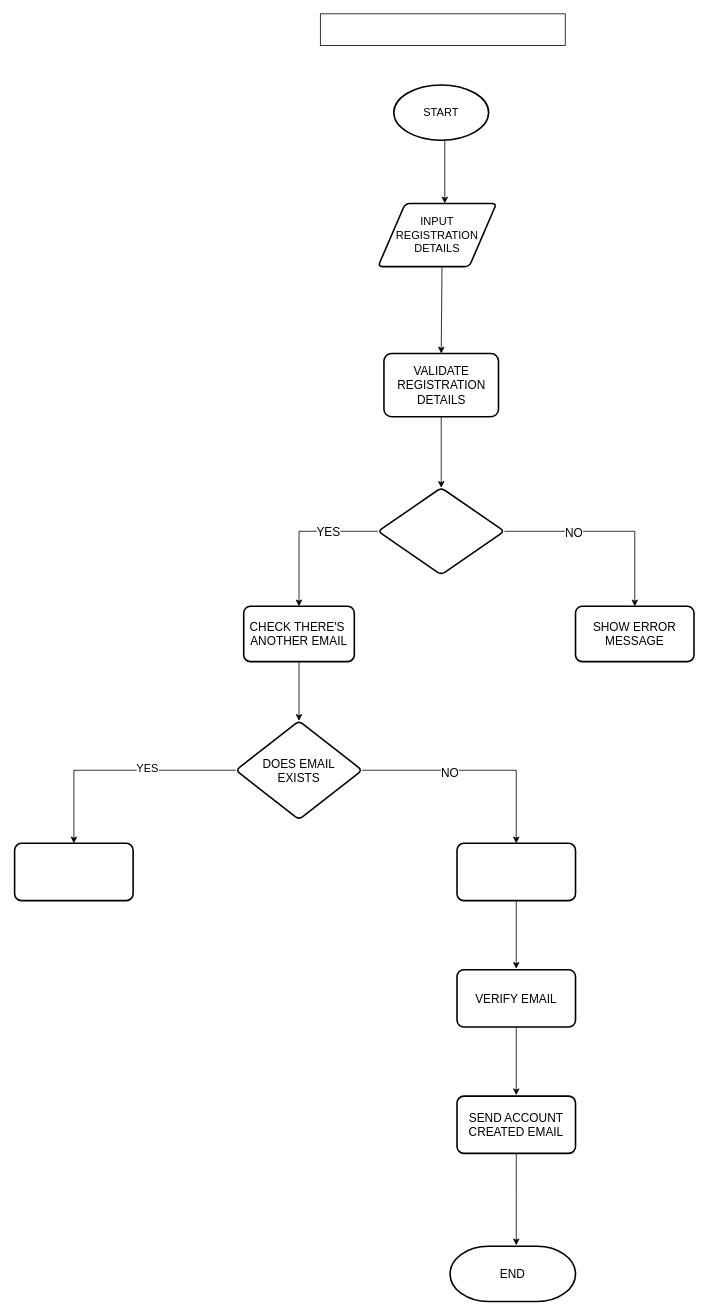
This 708x1316 diagram has some shape labels left out. The centre of each missing label's shape, as x and y in pixels:
"CREATE NEW ACCOUN T" belongs at (x=516, y=871).
"IS INPUT VALID?" belongs at (x=441, y=531).
"S HOW MESSAGE (EMAIL ALREADY EXISTS)" belongs at (x=73, y=871).
"USER ACCOUNT CREATION FLOWCHART" belongs at (x=442, y=29).
